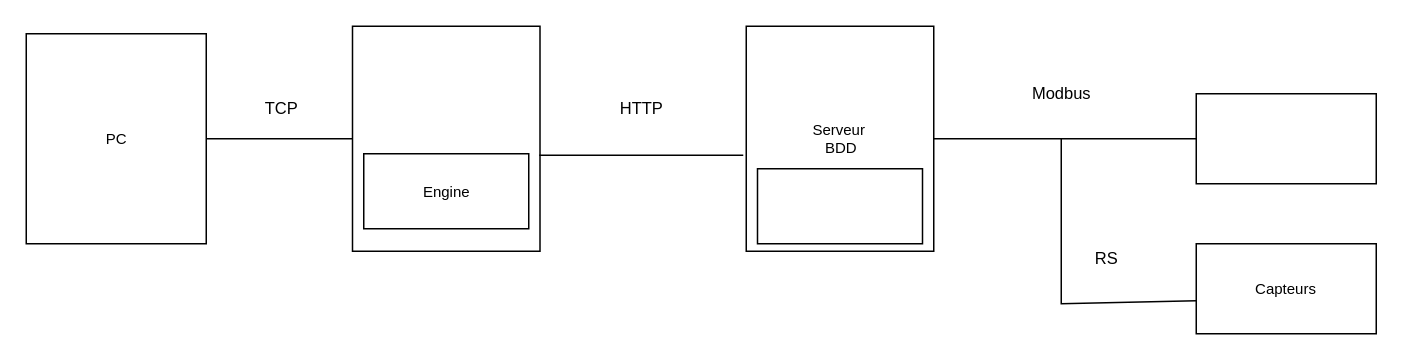
Image size: 1403x360. Some labels were removed from this diagram. Each missing label, with the box of its shape:
Serveur: (351, 25, 540, 251)
Écran Géant: (1195, 92, 1376, 184)
